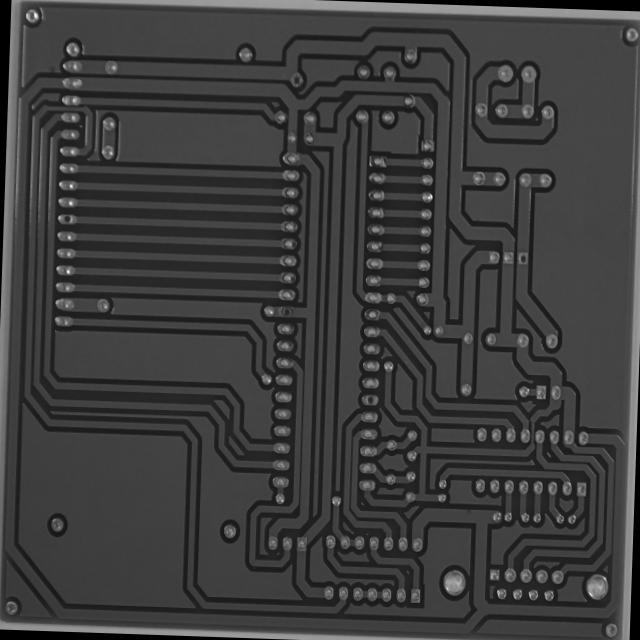missing_hole: (277, 302, 296, 319), (59, 209, 76, 228), (289, 70, 305, 90), (361, 392, 378, 410), (518, 250, 528, 266)
